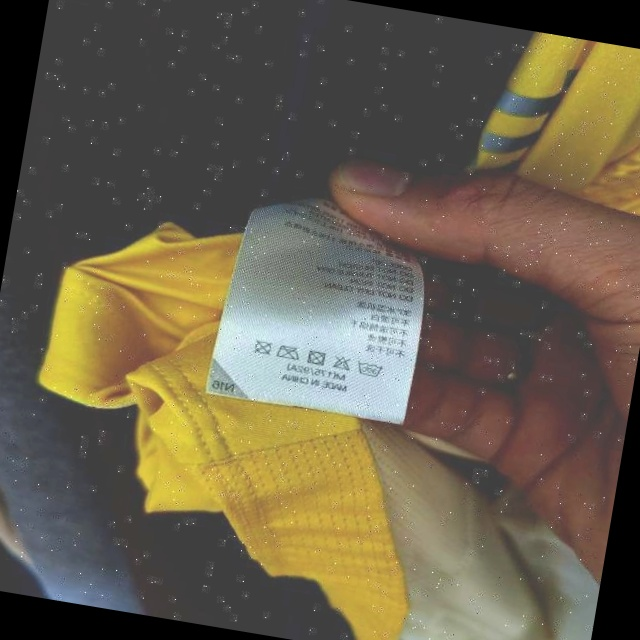30C: (354, 358, 385, 381)
DN_bleach: (329, 353, 352, 372)
DN_dry_clean: (250, 337, 274, 357)
DN_iron: (275, 341, 304, 363)
DN_tumble_dry: (304, 348, 327, 368)
